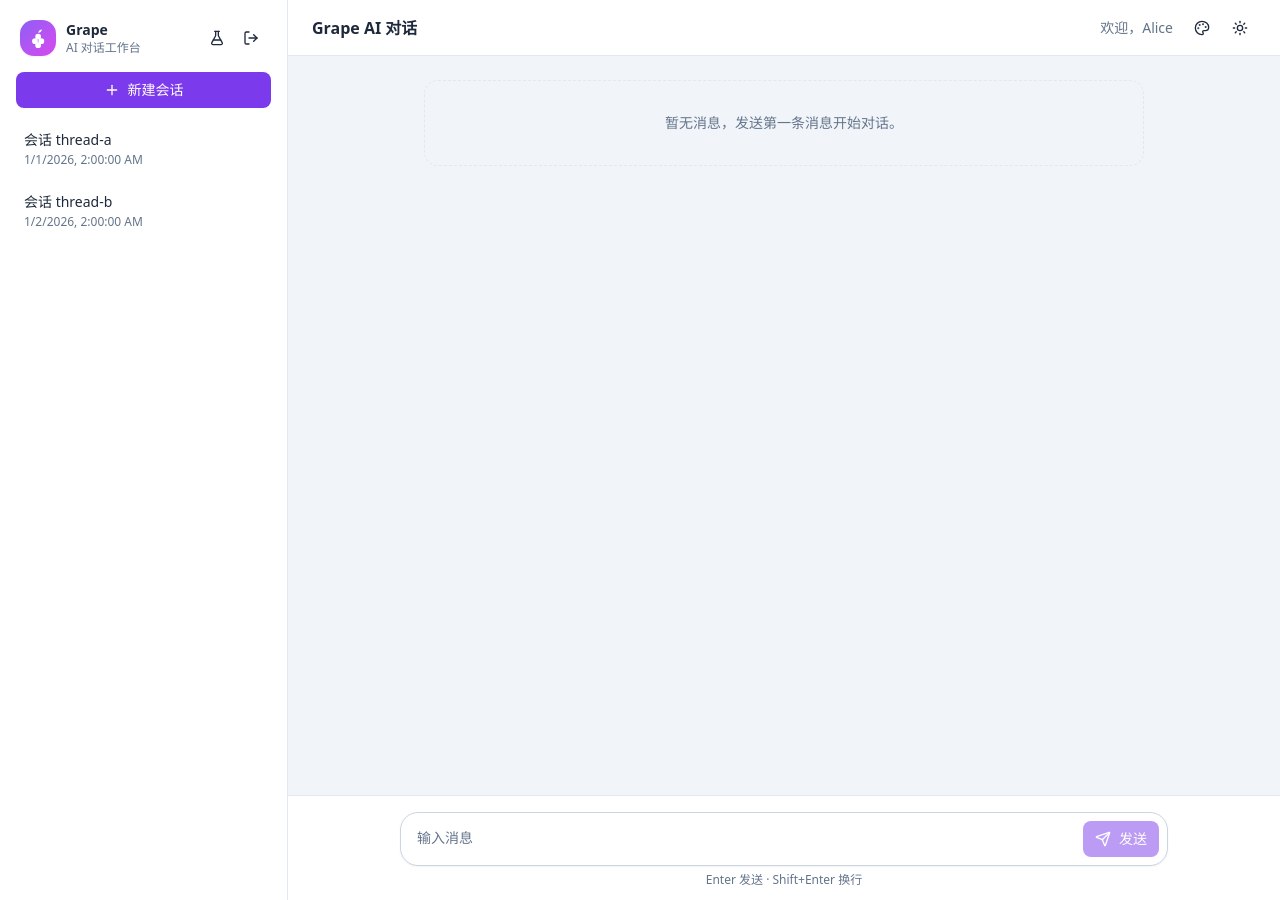
Test: ChatPage streaming run › renders_a_clear_error_banner_when_the_run_fails
Expected: the list named "会话列表" is shown, [12, 120, 275, 240]
Type "say ping" into the text box labelled "输入消息" at (742, 839), box [409, 821, 1075, 857]
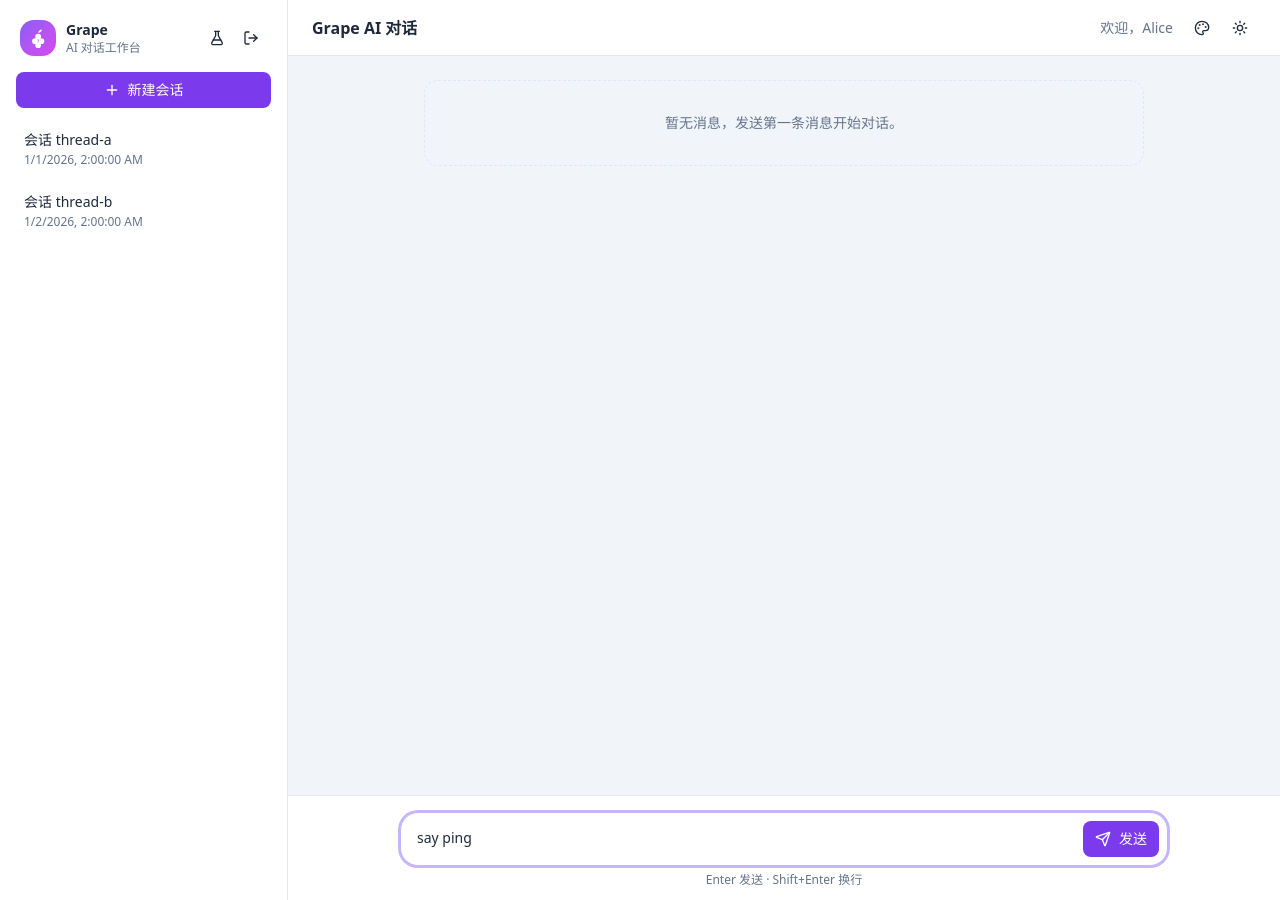
Click the button "发送" at (1121, 839), box [1083, 821, 1159, 857]
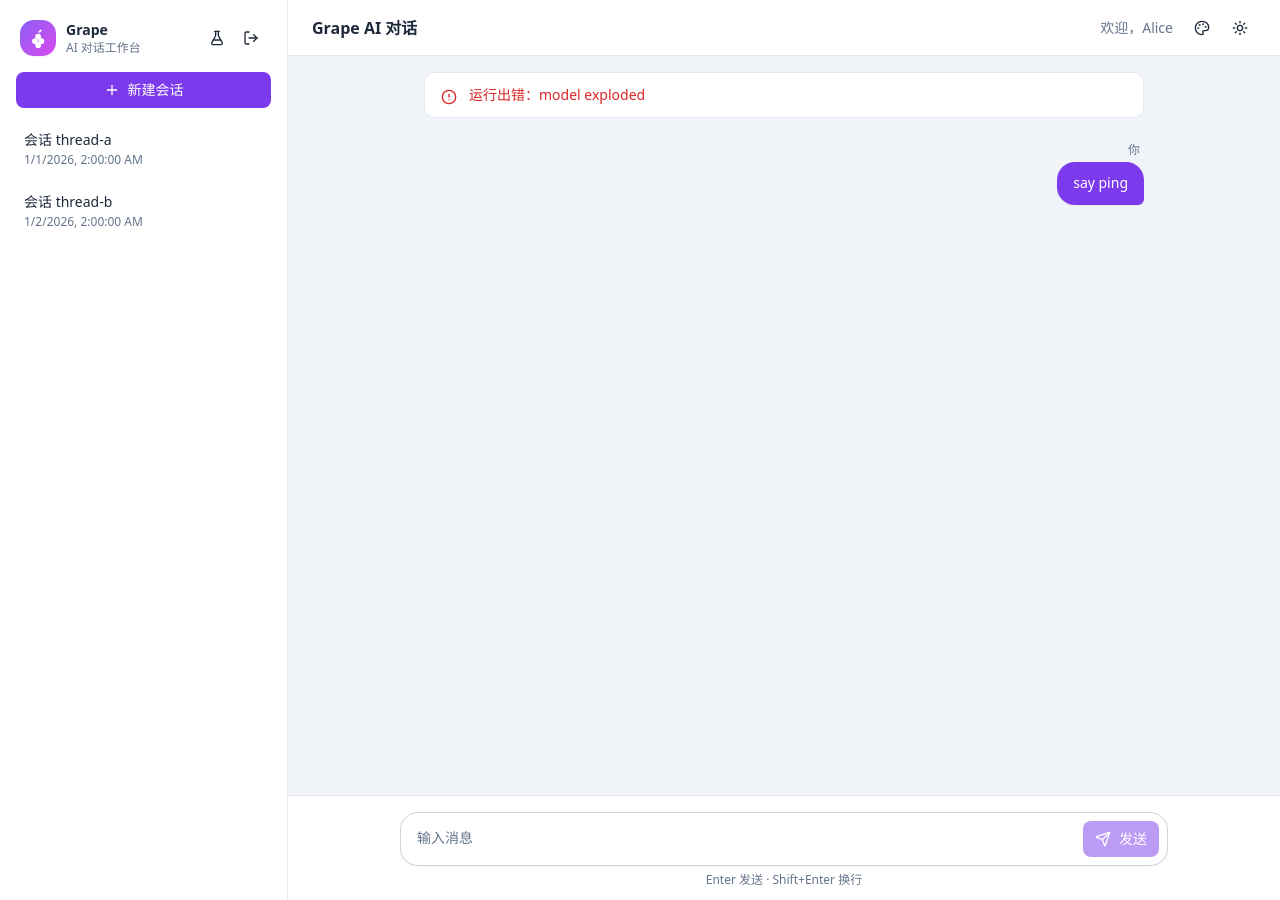
Expected: the message reads "运行出错：model exploded", [424, 72, 1144, 118]
